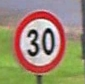limite 30: (11, 7, 66, 75)
